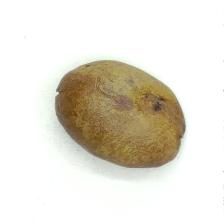NG: (144, 90, 172, 127)
